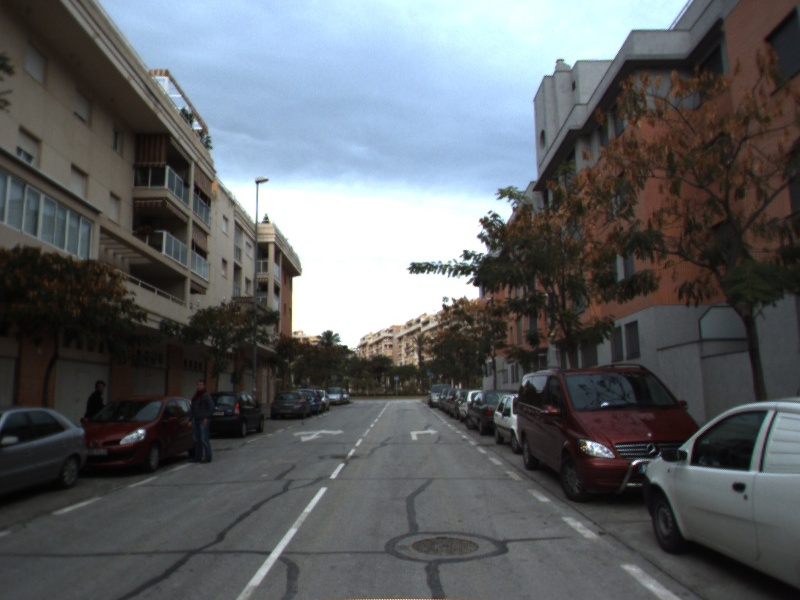RIGHT: (408, 425, 441, 442)
